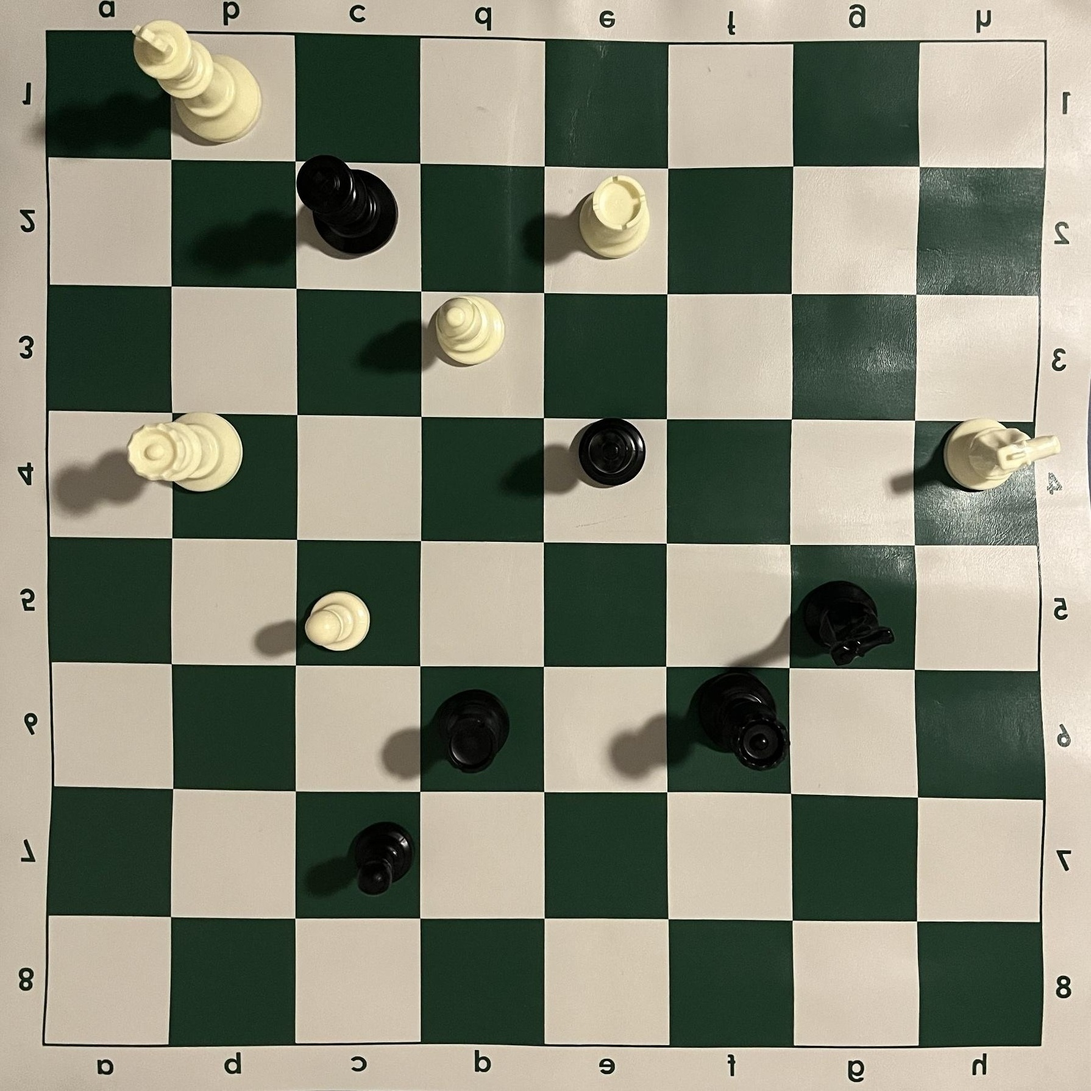black_bishop: (577, 417, 647, 488)
black_king: (296, 154, 399, 258)
black_knight: (795, 580, 895, 667)
black_pawn: (350, 821, 415, 896)
black_queen: (699, 669, 789, 772)
black_rook: (434, 690, 511, 774)
white_bishop: (433, 295, 506, 366)
white_king: (132, 20, 263, 143)
white_knight: (943, 418, 1061, 492)
white_pawn: (304, 591, 371, 652)
white_queen: (126, 411, 244, 492)
white_rook: (578, 174, 650, 259)
